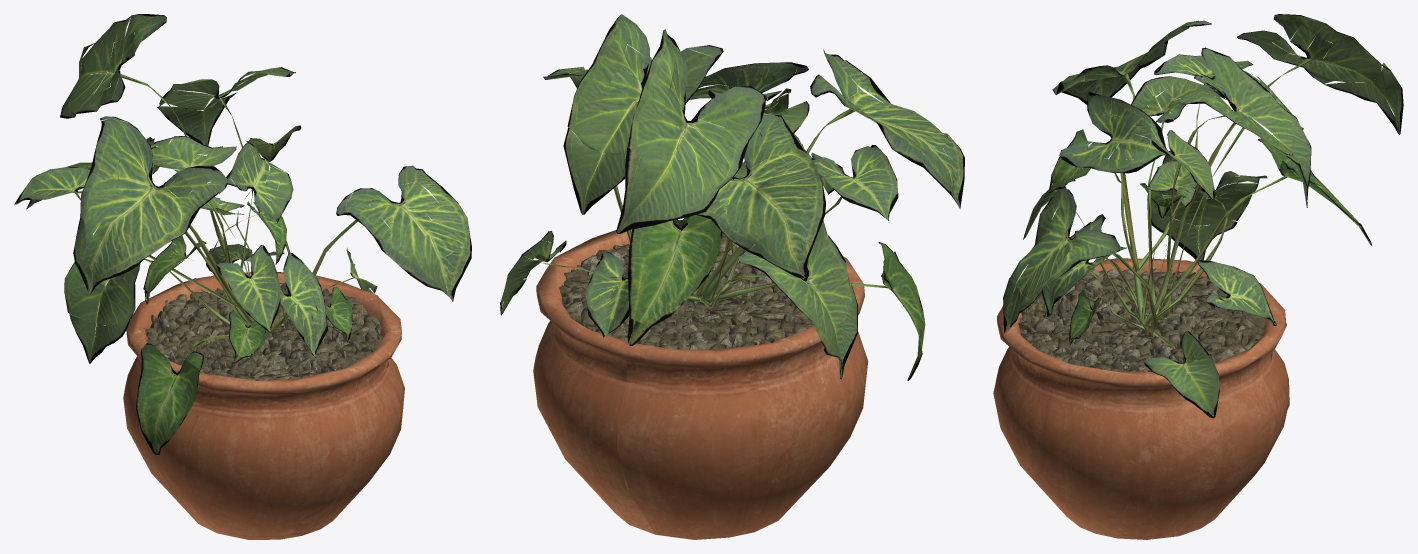
File: potted_plant_02_lod.glb
3 views of the same model, side by side, from view 1: azimuth 30°, elevation 25°; view 2: azimuth 150°, elevation 25°; view 3: azimuth 270°, elevation 25° (orthographic). The views are drawn at different scales.
Parts seen in each view (by area): view 1: potted_plant_02_leaves, potted_plant_02_pot, potted_plant_02_dirt; view 2: potted_plant_02_leaves, potted_plant_02_pot, potted_plant_02_dirt; view 3: potted_plant_02_leaves, potted_plant_02_pot, potted_plant_02_dirt.
Boxes of the visible parts, bbox=[...] form: potted_plant_02_leaves: bbox=[14, 14, 471, 454]; potted_plant_02_pot: bbox=[123, 272, 404, 539]; potted_plant_02_dirt: bbox=[142, 283, 383, 380]; potted_plant_02_leaves: bbox=[500, 14, 964, 380]; potted_plant_02_pot: bbox=[533, 229, 868, 539]; potted_plant_02_dirt: bbox=[559, 235, 818, 349]; potted_plant_02_leaves: bbox=[1003, 14, 1403, 418]; potted_plant_02_pot: bbox=[993, 258, 1289, 539]; potted_plant_02_dirt: bbox=[1018, 268, 1268, 371].
Size of the model in its own units: 0.7008 by 0.8423 by 0.6581.
Materials: 2 (2 with a texture image).
